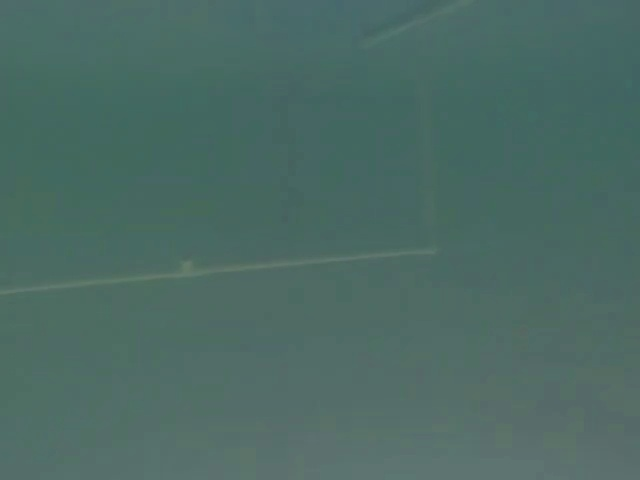gate: (0, 0, 493, 306)
